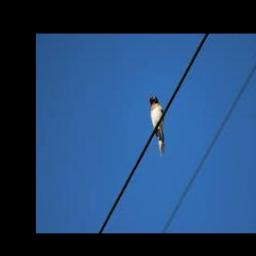Swallow: (149, 95, 166, 156)
